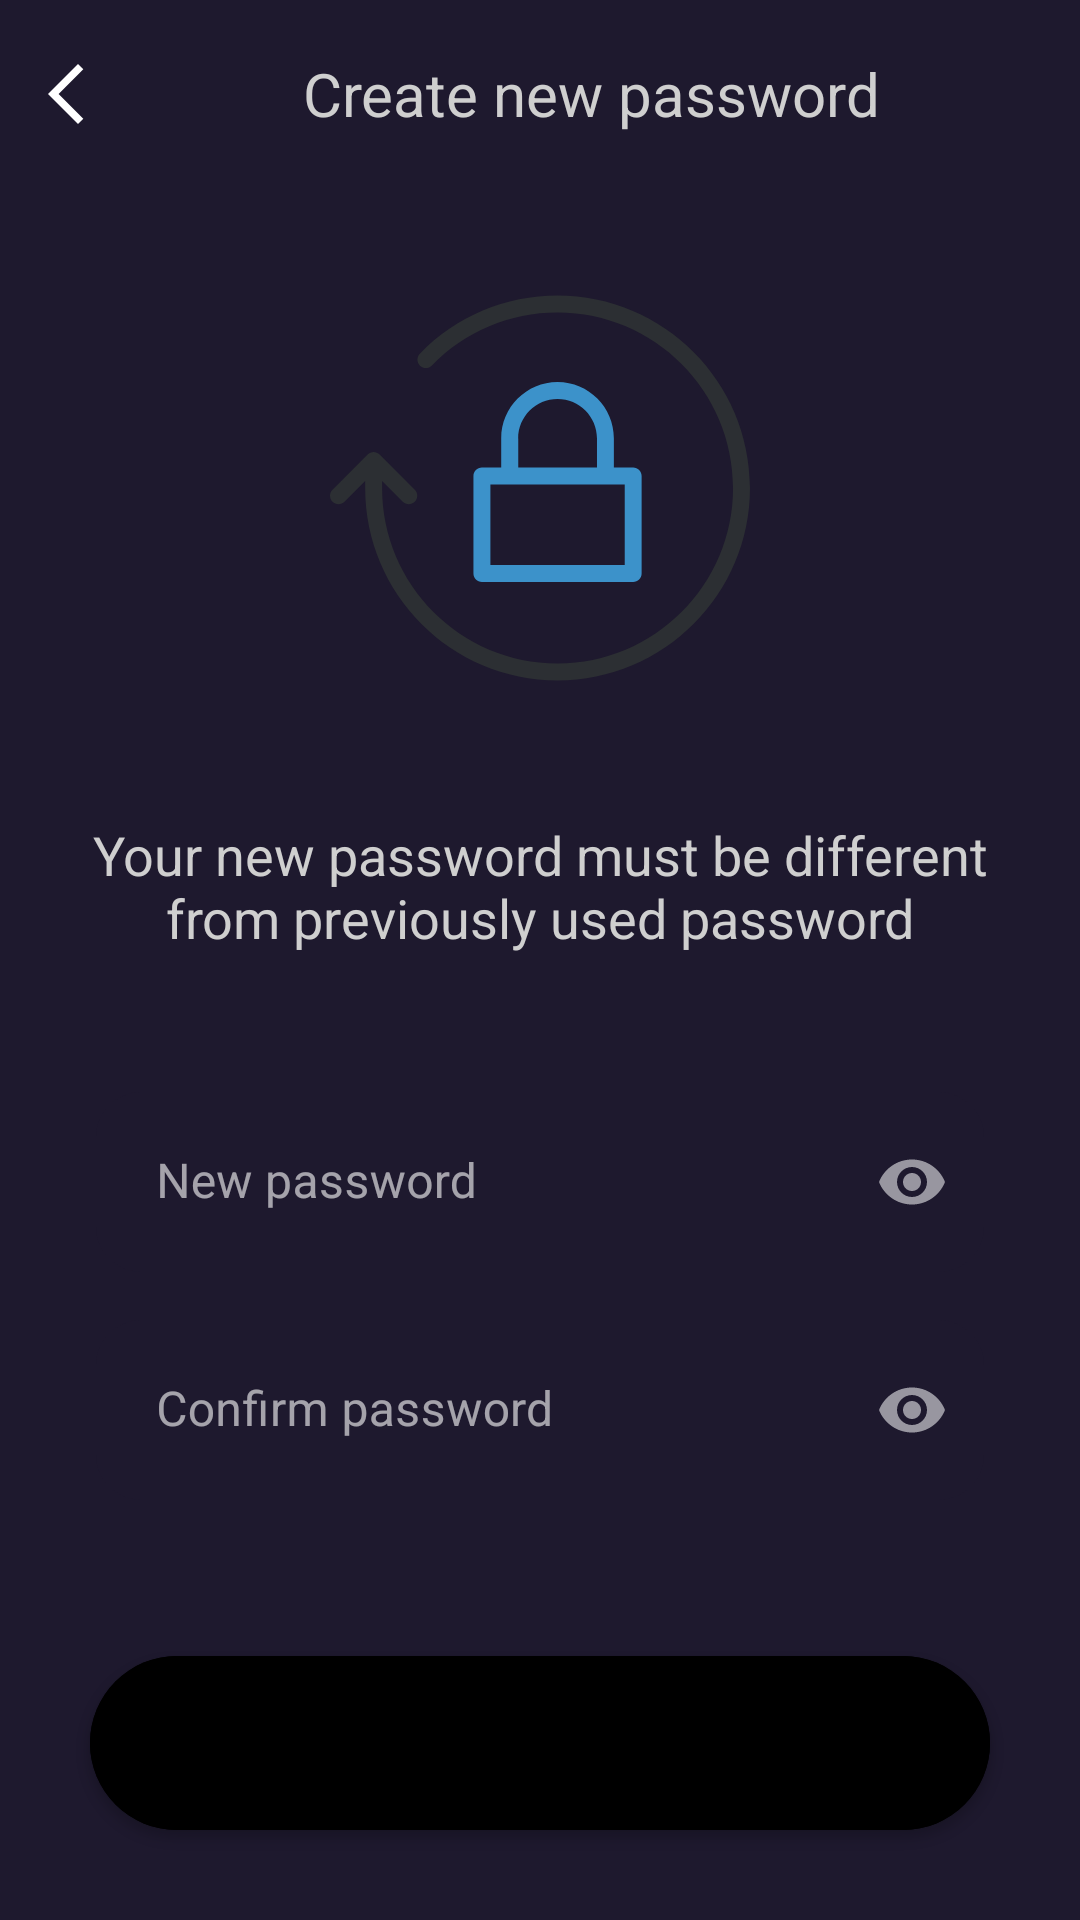

Screen size 1080×1920. Icon name, then its box in pixels as (x1, y1, x2, y2):
arrow back: (48, 64, 83, 124)
